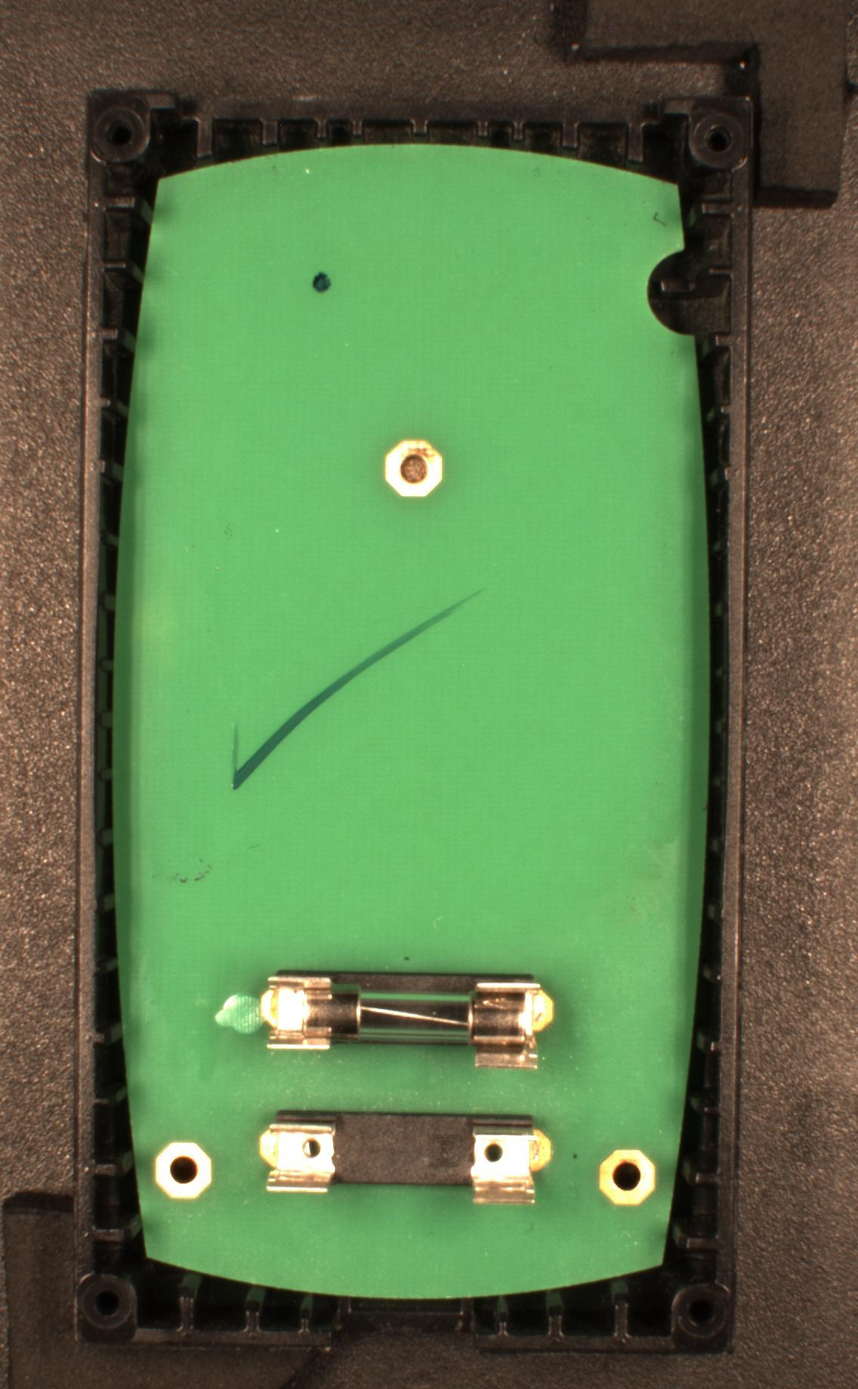Linijsko Ostecene: (230, 585, 489, 794)
Nepostojanje osiguraca: (258, 1109, 555, 1209)
Tockasto Ostecenje: (311, 270, 332, 294)
